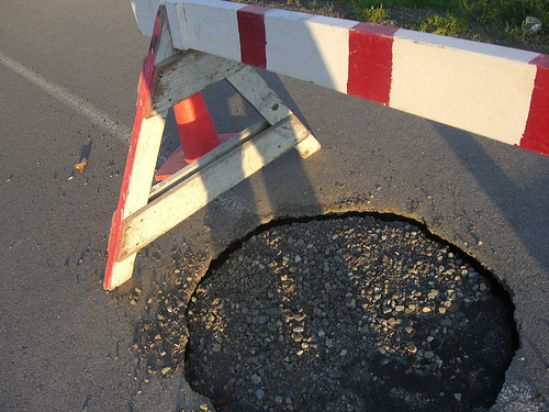pothole: (178, 204, 526, 412)
